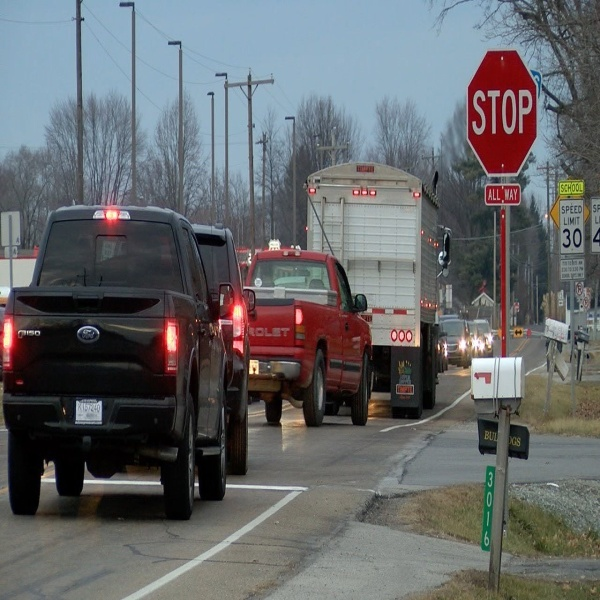stop: (467, 49, 536, 172)
